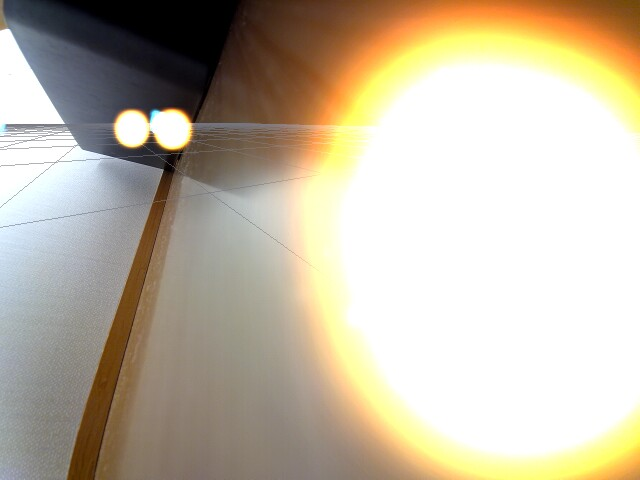firebig: (296, 8, 640, 480)
